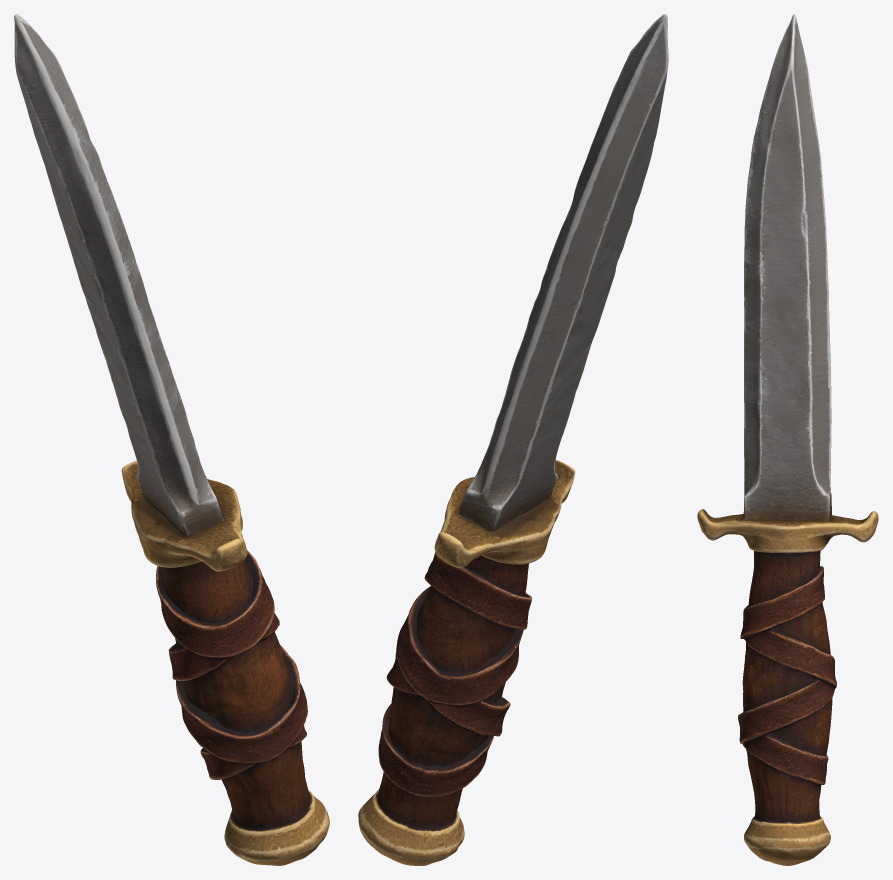
File: dagger_hunter.glb
The picture shows the model from 3 angles, left to right: view 1: azimuth 30°, elevation 25°; view 2: azimuth 150°, elevation 25°; view 3: azimuth 270°, elevation 25°; orthographic projection. The views are drawn at different scales.
Visible parts, largest first — view 1: weapon; view 2: weapon; view 3: weapon.
Boxes of the visible parts, x1,y1,x2,y2 form: weapon: (14, 14, 329, 865); weapon: (358, 14, 668, 865); weapon: (697, 14, 878, 865).
Bounding box in the file's own units: 0.3525 × 1 × 0.2202.
Materials: 1 (1 with a texture image).
